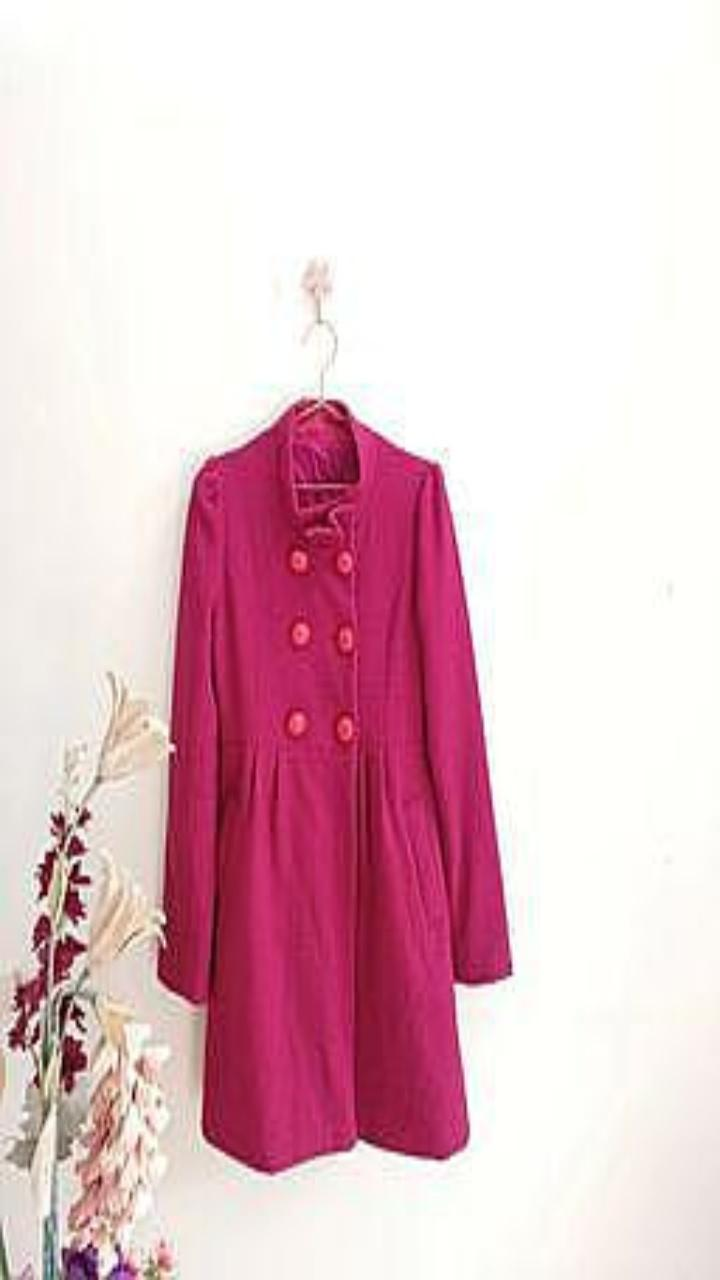Coat: (158, 399, 511, 1171)
